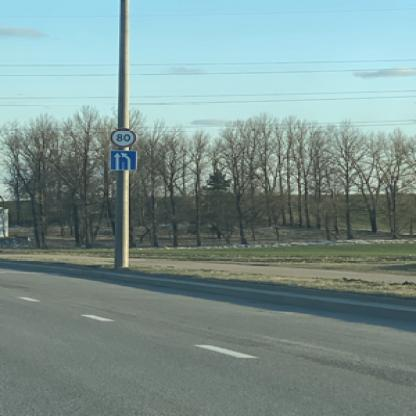speedlimit: (108, 127, 133, 145)
